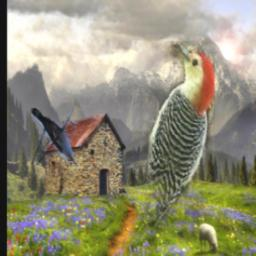Cuckoo: (32, 109, 78, 166)
Woodpecker: (116, 41, 216, 256)
